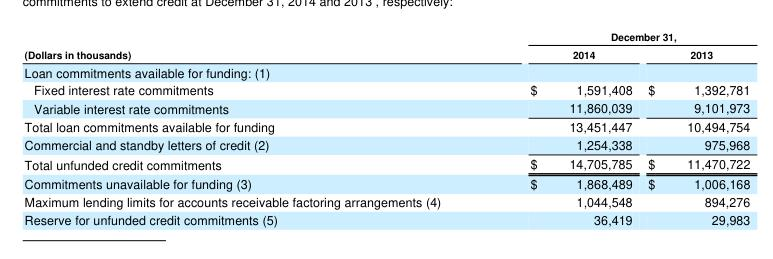table: (23, 29, 749, 228)
table column: (23, 29, 484, 228), (484, 29, 639, 228), (639, 29, 749, 228)
table column header: (23, 29, 749, 62)
table projected row header: (23, 62, 749, 80)
table row: (23, 153, 749, 173), (23, 98, 749, 117), (23, 173, 749, 192), (23, 62, 749, 80), (23, 80, 749, 98), (23, 117, 749, 135), (23, 135, 749, 153), (23, 192, 749, 210), (23, 210, 749, 228), (23, 45, 749, 62), (23, 29, 749, 45)
table spanning cell: (23, 29, 484, 62), (484, 29, 749, 45)
